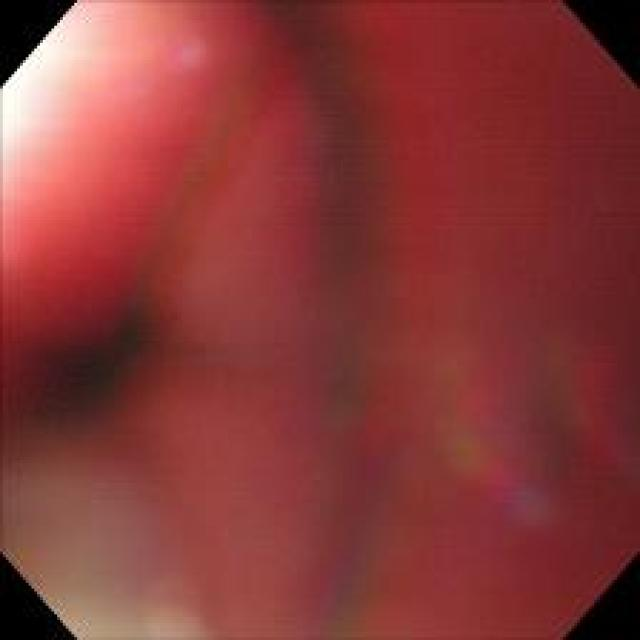color misalignment: (1, 1, 629, 631), (270, 9, 444, 628), (388, 272, 624, 545), (4, 414, 198, 631)
contrast: (25, 298, 161, 431)
